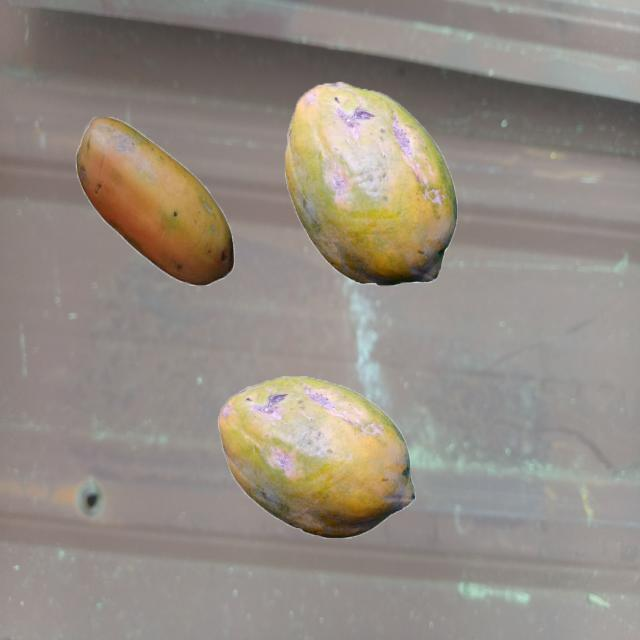Pepaya rippen: (279, 69, 462, 301), (213, 380, 422, 546), (73, 103, 239, 294)
